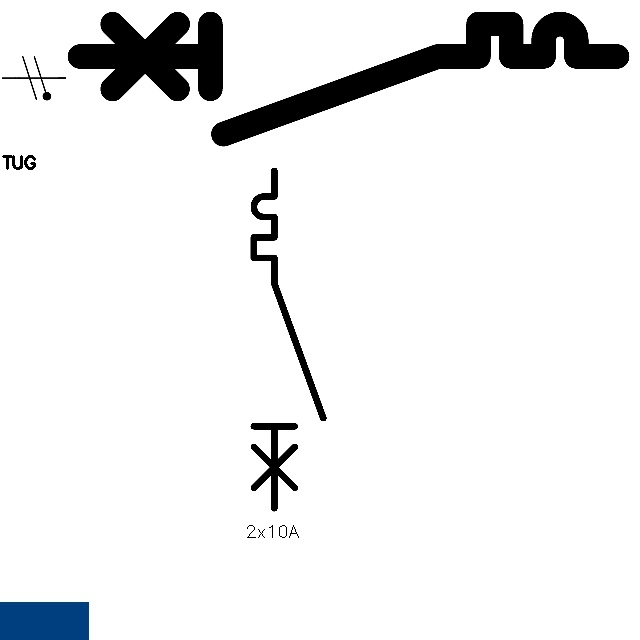interruptor_termomagnetico: (65, 10, 630, 148), (245, 162, 332, 517)
